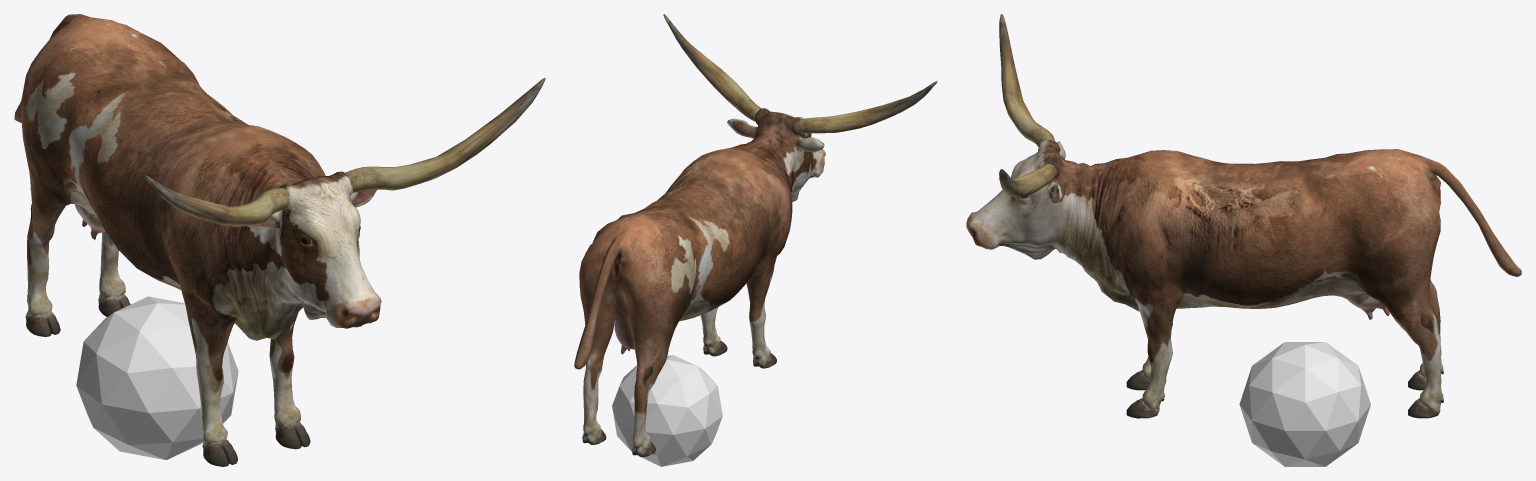
Rendered from buka.dae.
3 renders of one model, left to right at view 1: azimuth 30°, elevation 25°; view 2: azimuth 150°, elevation 25°; view 3: azimuth 270°, elevation 25°, orthographic. The views are drawn at different scales.
Visible parts, largest first — view 1: GLTF_created_0, Icosphere; view 2: GLTF_created_0, Icosphere; view 3: GLTF_created_0, Icosphere.
Boxes of the visible parts, x1=… form: GLTF_created_0: x1=14, y1=14, x2=545, y2=466; Icosphere: x1=76, y1=296, x2=238, y2=460; GLTF_created_0: x1=574, y1=14, x2=937, y2=456; Icosphere: x1=612, y1=355, x2=722, y2=466; GLTF_created_0: x1=966, y1=14, x2=1521, y2=418; Icosphere: x1=1239, y1=342, x2=1370, y2=466.
Bounding box in the file's own units: 5.58 × 8.44 × 6.23.
Materials: 2 (2 with a texture image).
